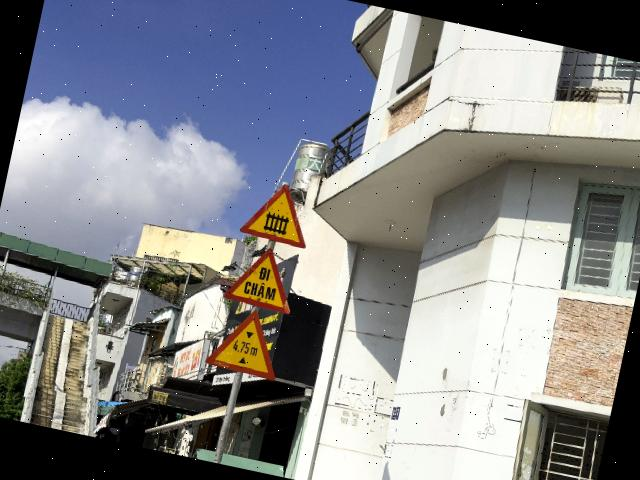chieu-cao-tinh-khong-thuc-te: (203, 302, 288, 381)
noi-giao-nhau-voi-duong-sat-co-rao-chan: (238, 177, 318, 250)
